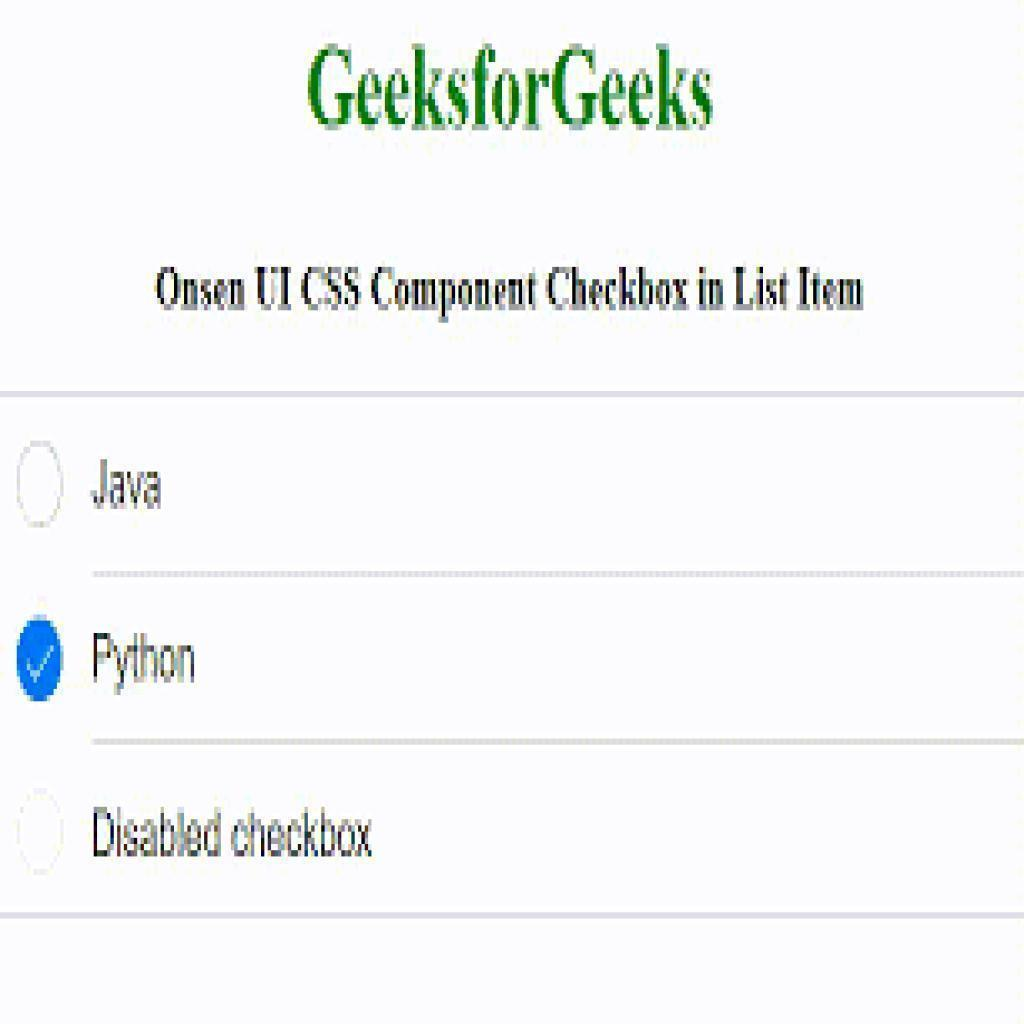label: (87, 797, 384, 865), (89, 626, 206, 703), (84, 456, 169, 512)
radio: (16, 788, 65, 877), (15, 442, 64, 527), (16, 615, 63, 703)
